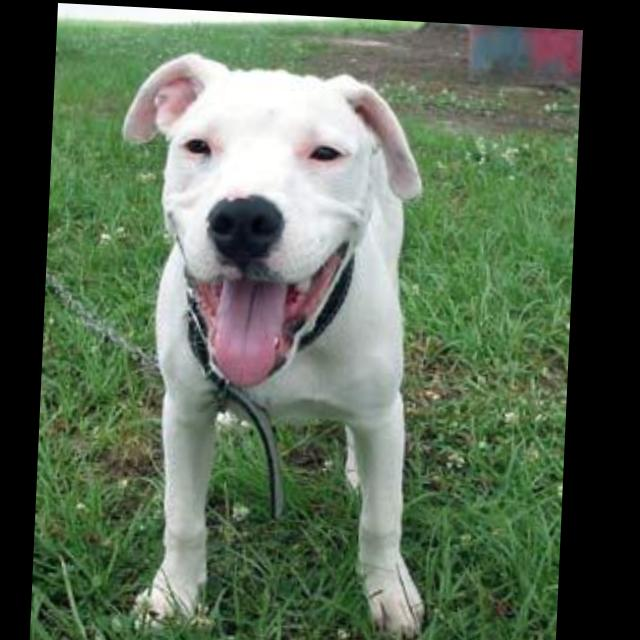amstaff: (103, 47, 452, 640)
